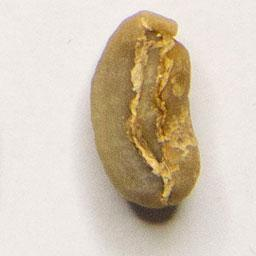longberry: (87, 7, 202, 213)
